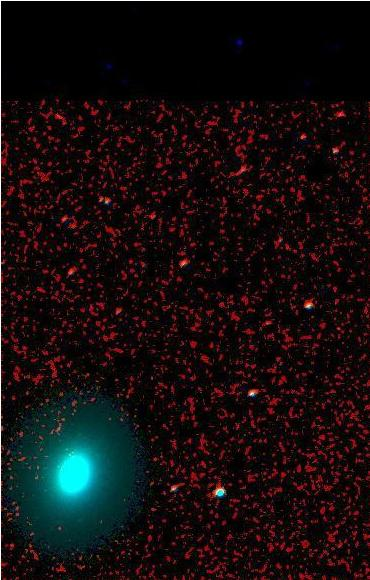star: (324, 314, 354, 344)
